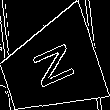N_W: (24, 40, 77, 95)
